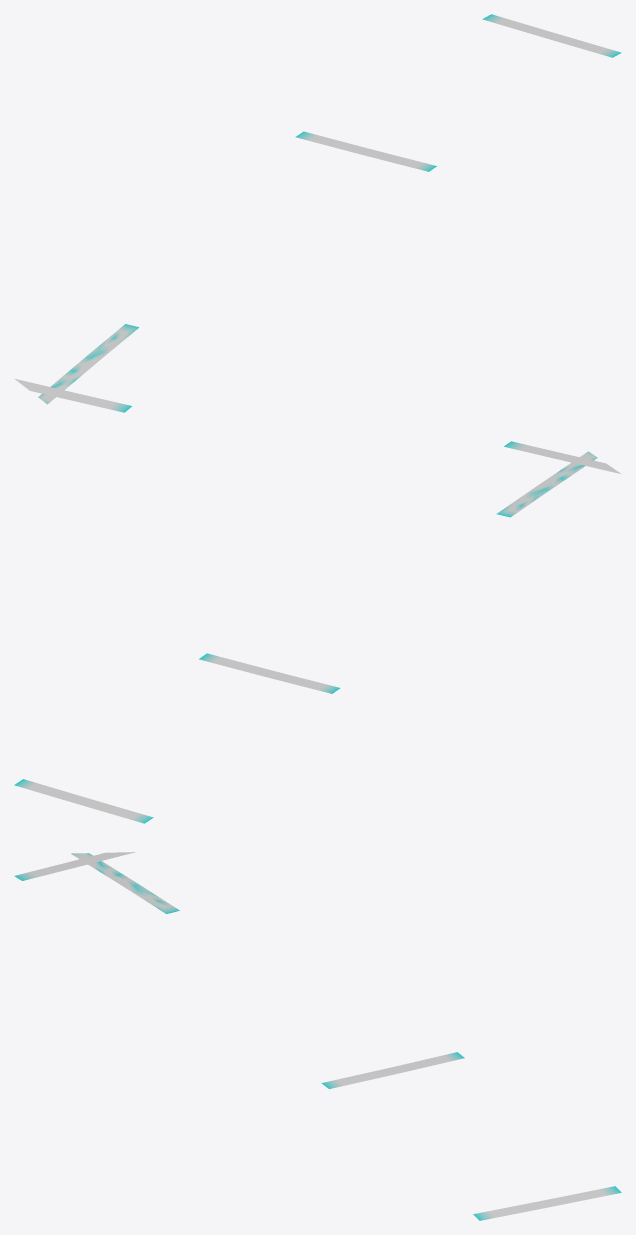
The picture shows the model from 3 angles, top to bottom: view 1: azimuth 30°, elevation 25°; view 2: azimuth 210°, elevation 25°; view 3: azimuth 270°, elevation 25°; orthographic projection.
Parts seen in each view (by area): view 1: SpaceCenter_Long3_GenerateRoad_Asphalt_PCGMesh_Decal_Mesh_x1; view 2: SpaceCenter_Long3_GenerateRoad_Asphalt_PCGMesh_Decal_Mesh_x1; view 3: SpaceCenter_Long3_GenerateRoad_Asphalt_PCGMesh_Decal_Mesh_x1.
Part boxes in pixels (x1,y1,x2,y2): SpaceCenter_Long3_GenerateRoad_Asphalt_PCGMesh_Decal_Mesh_x1: (14, 14, 621, 412); SpaceCenter_Long3_GenerateRoad_Asphalt_PCGMesh_Decal_Mesh_x1: (14, 441, 620, 823); SpaceCenter_Long3_GenerateRoad_Asphalt_PCGMesh_Decal_Mesh_x1: (14, 852, 621, 1220).
Size of the model in its own units: 1360 by 1991 by 37.2.
